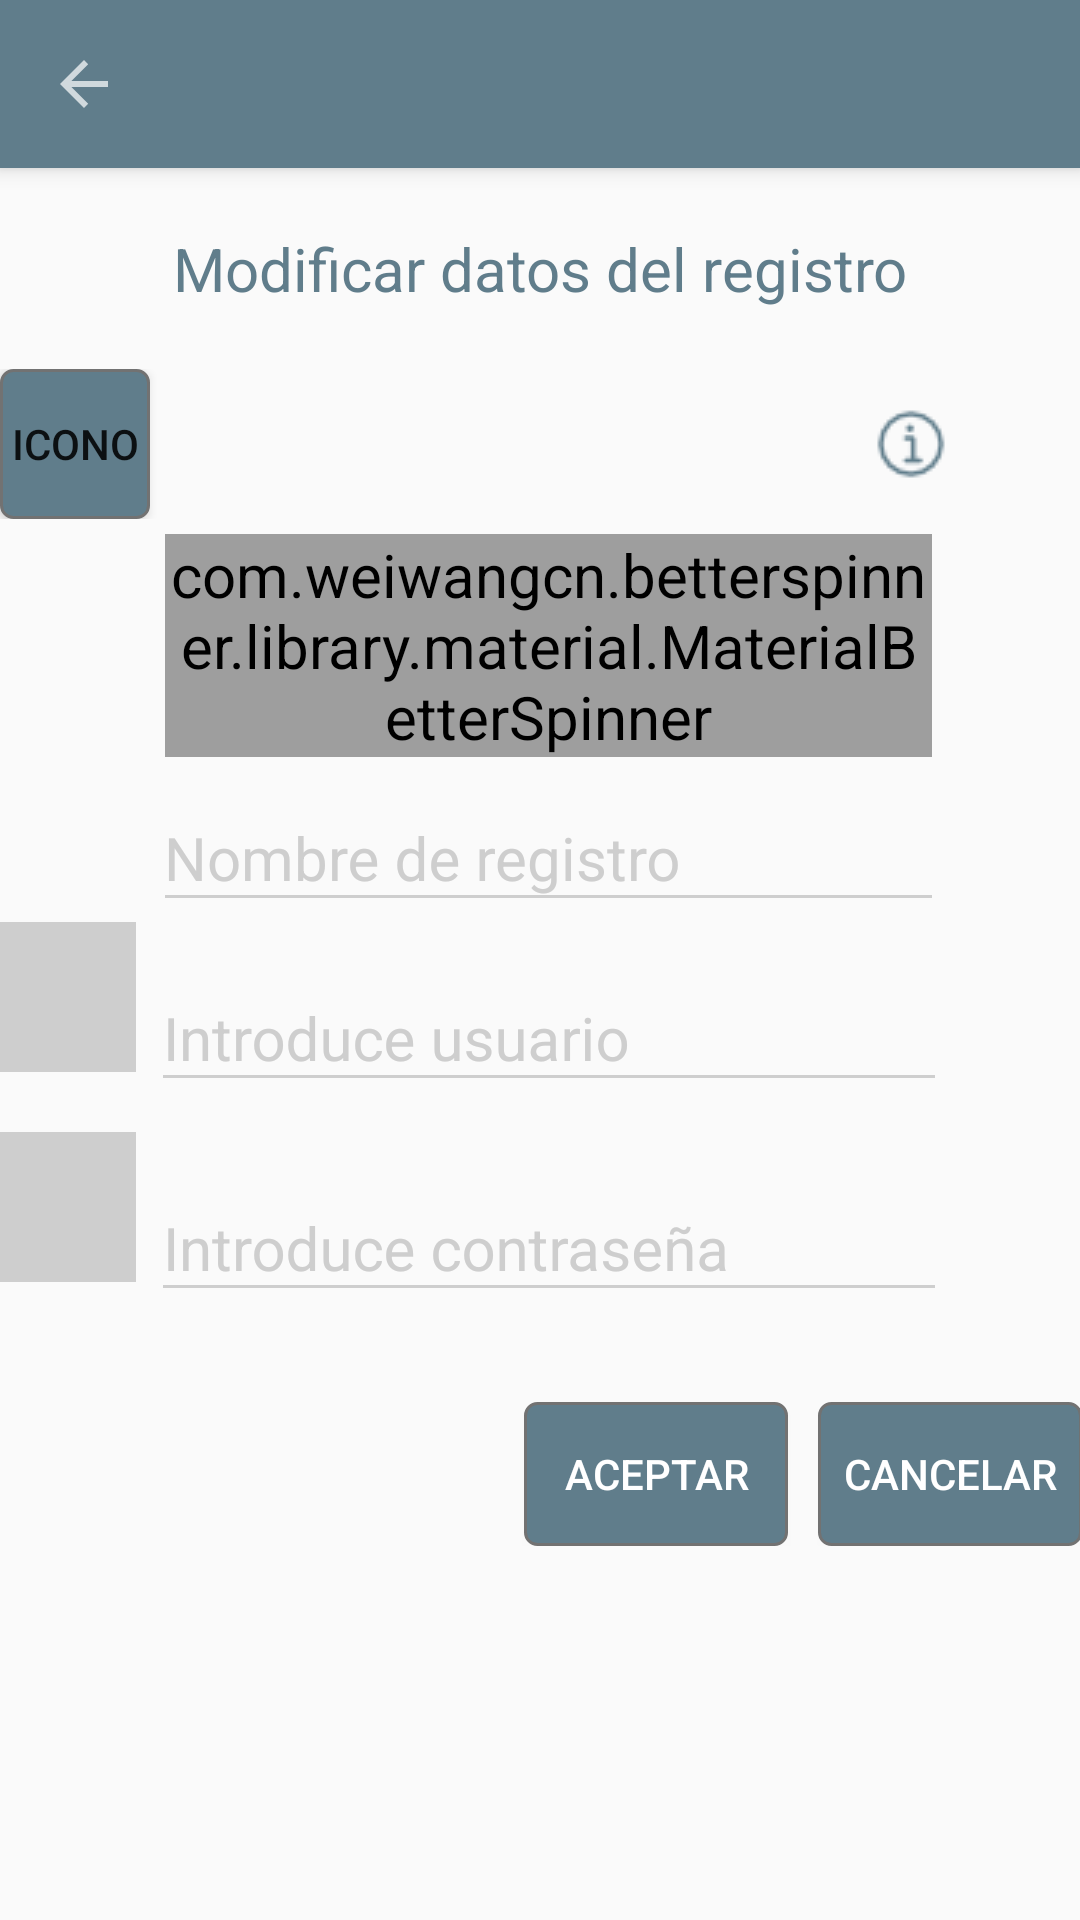

Where icons sit on this 1080 × 1920 app screen, as Rect(x1, y1, x2, y2):
info: Rect(877, 410, 945, 478)
